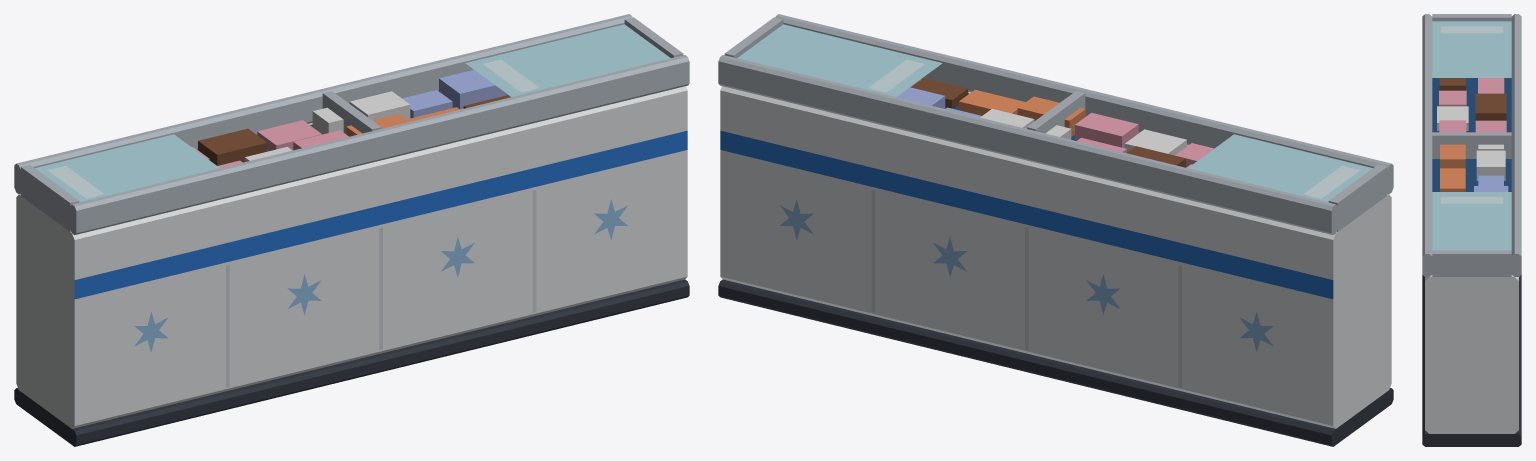
The model's file is market-border.glb.
3 views of the same model, side by side, from view 1: azimuth 30°, elevation 25°; view 2: azimuth 150°, elevation 25°; view 3: azimuth 270°, elevation 25° (orthographic). The views are drawn at different scales.
Visible parts, largest first — view 1: market-border; view 2: market-border; view 3: market-border.
Part boxes in pixels (bbox=[...]): market-border: bbox=[14, 14, 689, 446]; market-border: bbox=[718, 14, 1393, 446]; market-border: bbox=[1422, 14, 1521, 446].
Bounding box in the file's own units: 4 × 1.5 × 0.7.
